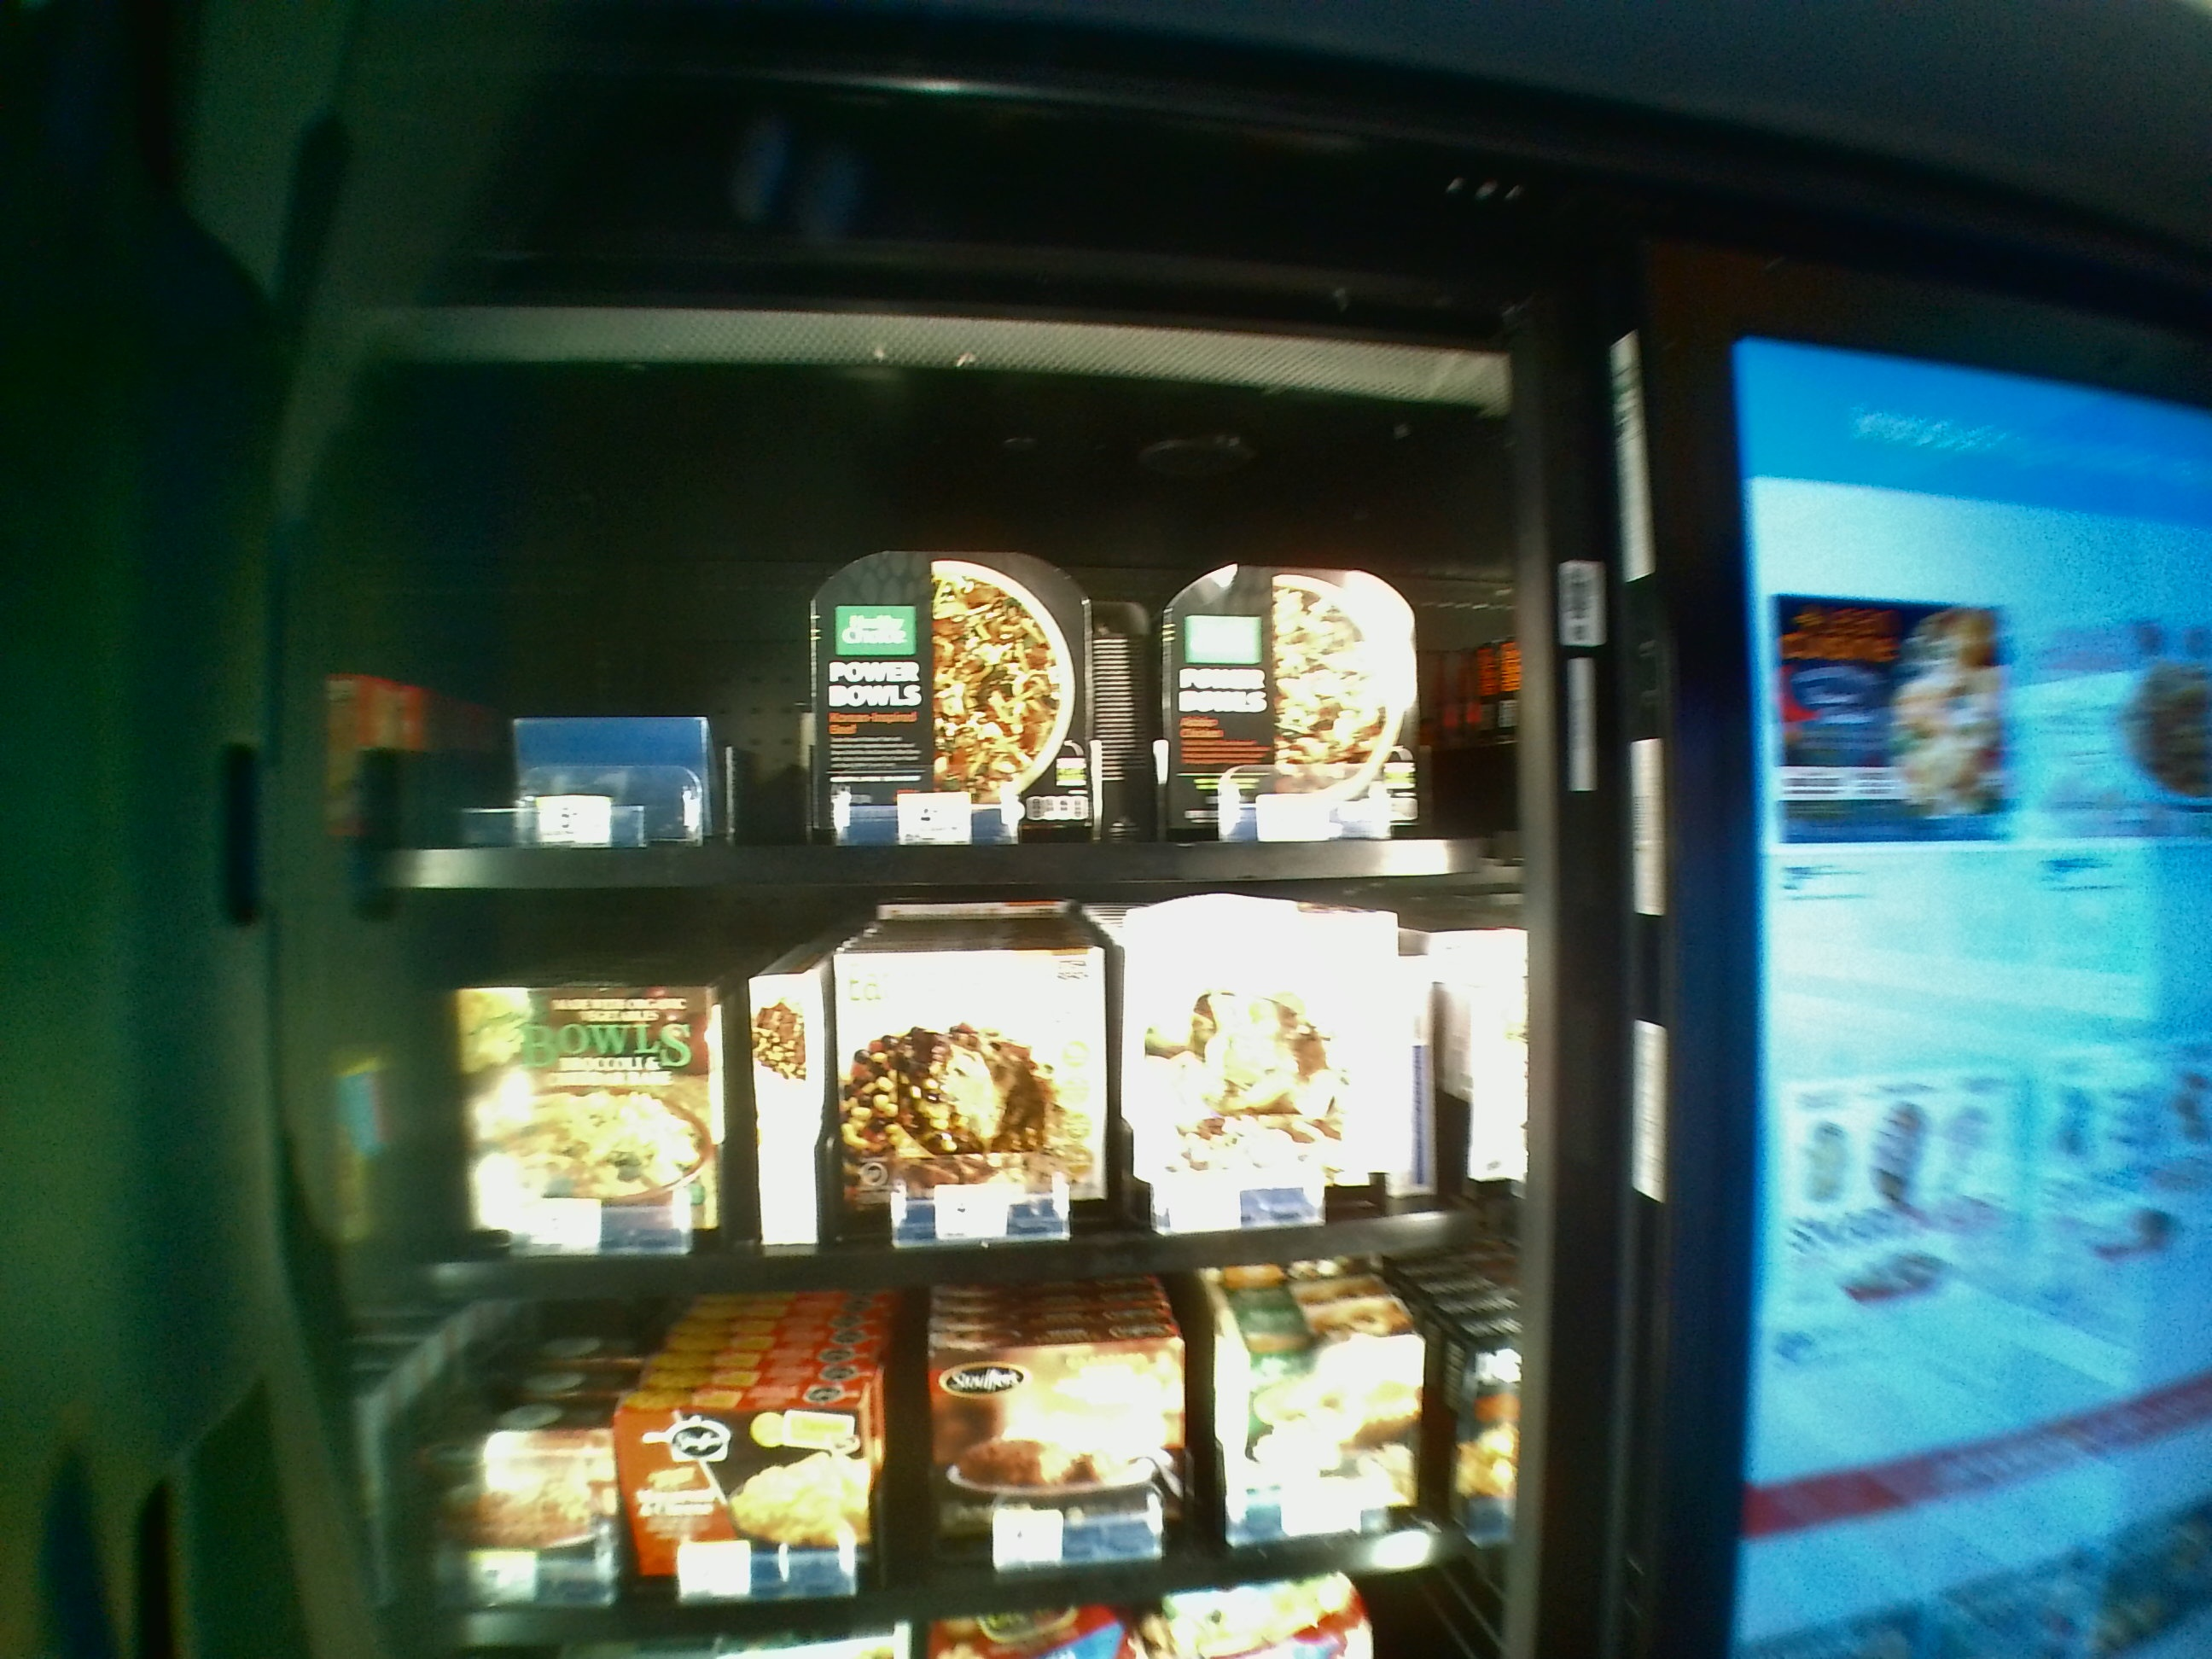shelf: (355, 416, 1501, 894), (350, 913, 1514, 1316)
